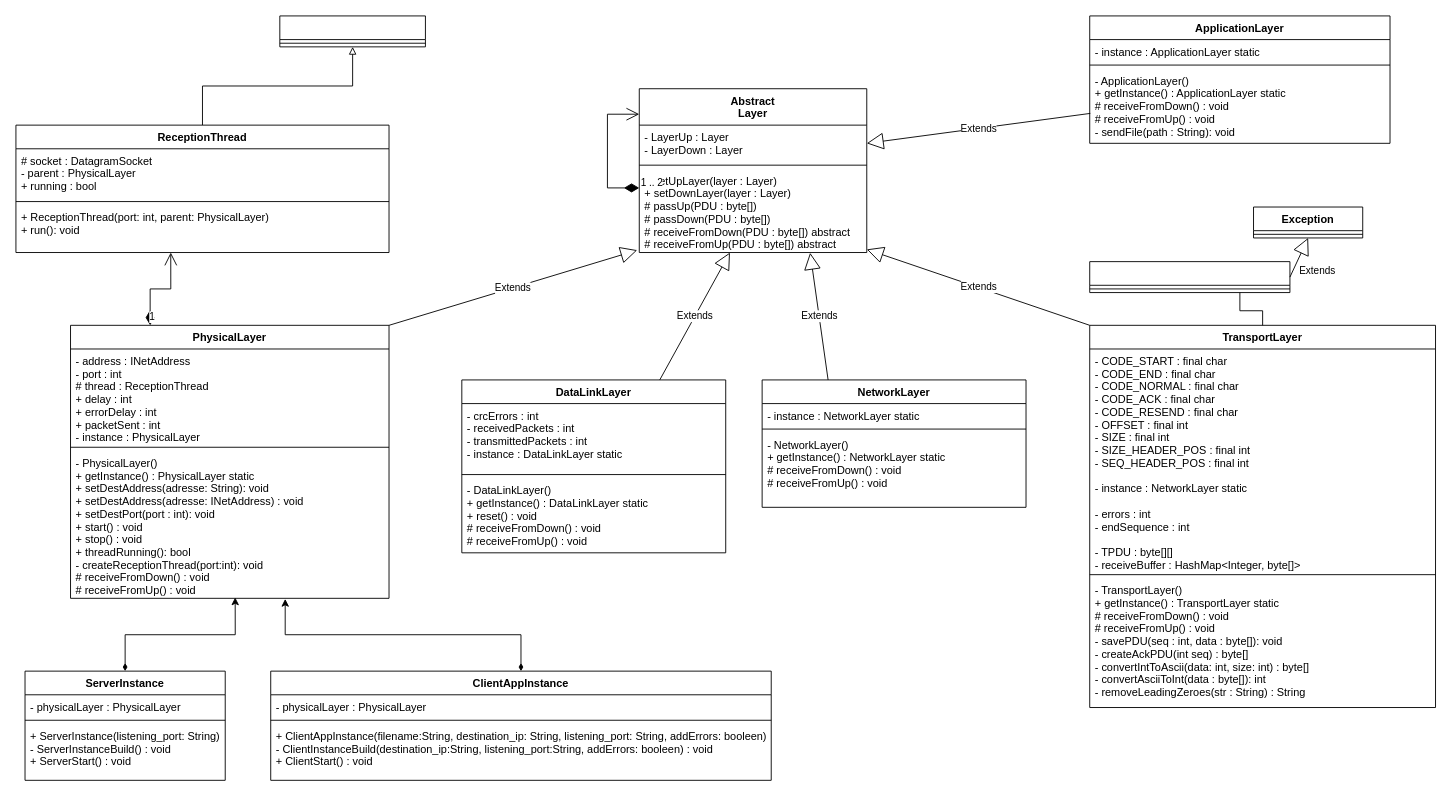
The diagram is 1451 pixels wide and 799 high, and some of its shapes have lost their labels. The shapes that lost their labels are listed below. From the top down, each one's centre as x and y in pixels, then its label:
At (352,31): "Thread".
At (1189,277): "TransmissionErrorException".
